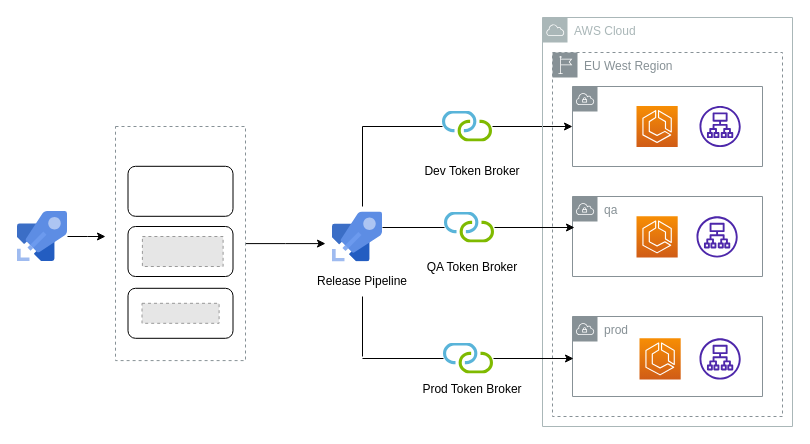
The diagram is 810 pixels wide and 444 high, and some of its shapes have lost their labels. Grey dashed boxes stand in for pictures. Each missing label, with the box of its shape:
CI Pipeline: (114, 126, 246, 361)
dev: (572, 86, 762, 166)
